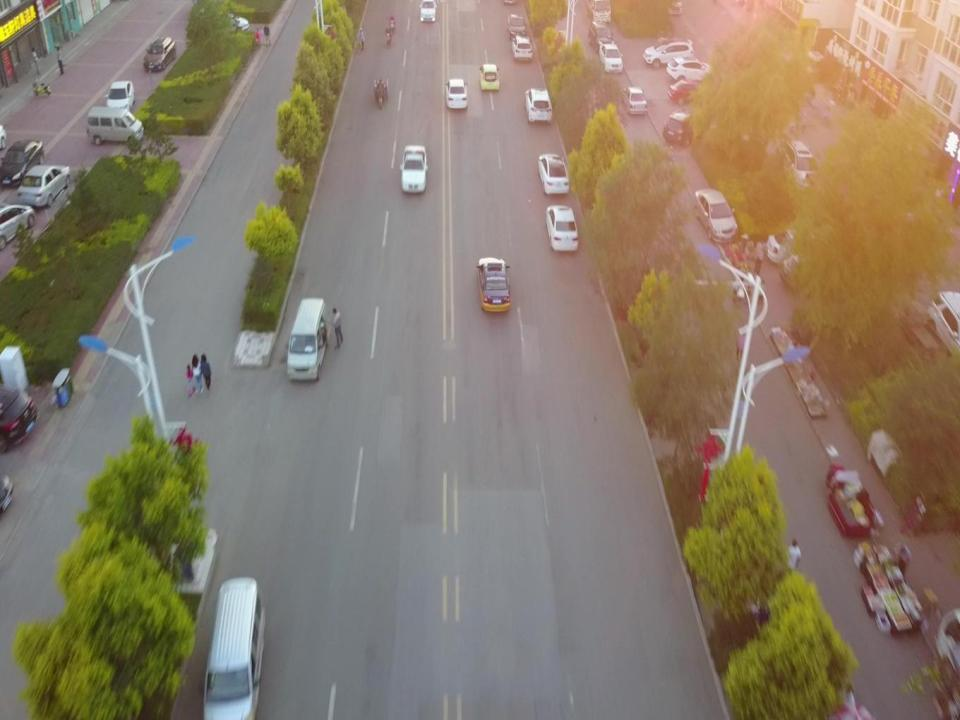car: (17, 165, 71, 211), (695, 188, 738, 242), (0, 384, 35, 450), (766, 225, 824, 263), (0, 140, 45, 186), (477, 256, 510, 313), (0, 202, 34, 252), (644, 36, 695, 68), (546, 204, 578, 252), (782, 252, 830, 284), (538, 152, 570, 195), (400, 145, 428, 192), (664, 109, 698, 147), (666, 55, 713, 81), (143, 36, 176, 72), (669, 78, 705, 106), (104, 81, 134, 114), (524, 88, 552, 122), (444, 78, 469, 111), (206, 13, 249, 32), (620, 86, 648, 114), (589, 22, 614, 52), (598, 46, 622, 74), (479, 65, 500, 90), (511, 36, 532, 61), (507, 15, 526, 39), (419, 0, 437, 22)
truck: (585, 0, 611, 23)
van: (205, 576, 263, 720), (286, 299, 328, 381), (86, 104, 144, 146), (784, 140, 818, 184)
